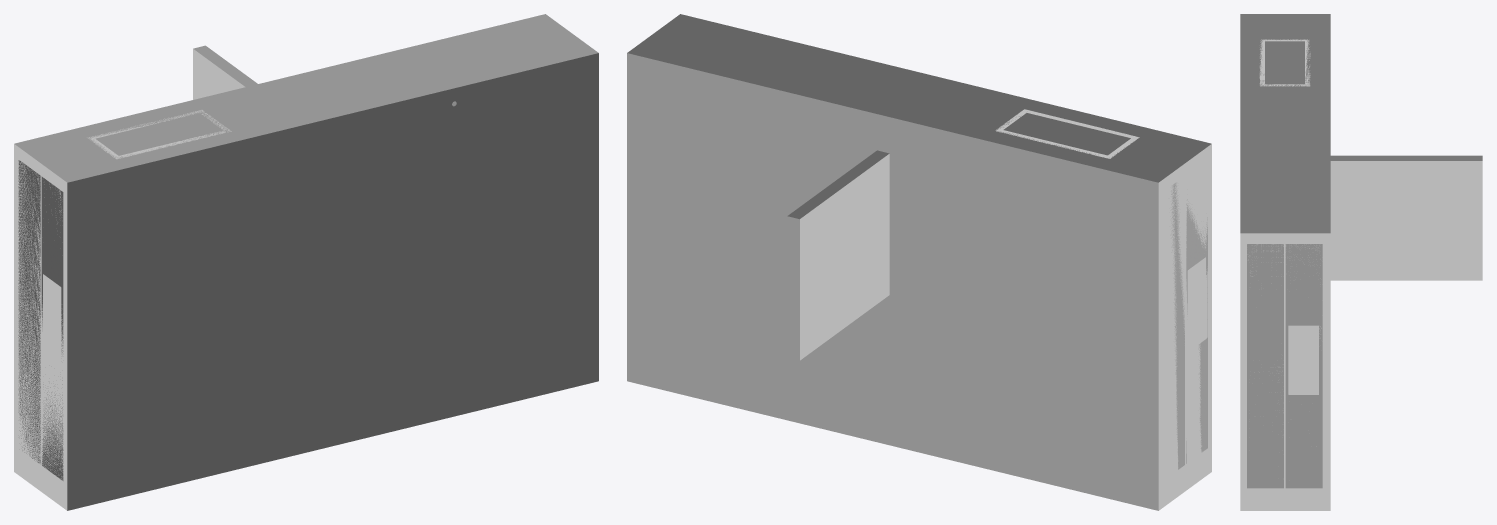
The picture shows the model from 3 angles, left to right: view 1: azimuth 30°, elevation 25°; view 2: azimuth 150°, elevation 25°; view 3: azimuth 270°, elevation 25°; orthographic projection. The views are drawn at different scales.
Visible parts, largest first — view 1: SM_Turnstile_01b_ConvexHulls, SM_Turnstile_01b; view 2: SM_Turnstile_01b_ConvexHulls, SM_Turnstile_01b; view 3: SM_Turnstile_01b_ConvexHulls, SM_Turnstile_01b.
Part boxes in pixels (left/top/right/bottom): SM_Turnstile_01b_ConvexHulls: left=14, top=14, right=598, bottom=510; SM_Turnstile_01b: left=18, top=101, right=456, bottom=480; SM_Turnstile_01b_ConvexHulls: left=627, top=14, right=1211, bottom=510; SM_Turnstile_01b: left=995, top=109, right=1207, bottom=469; SM_Turnstile_01b_ConvexHulls: left=1240, top=14, right=1482, bottom=510; SM_Turnstile_01b: left=1247, top=39, right=1322, bottom=488.
Bounding box in the file's own units: 182 × 85.02 × 107.
Materials: 3 (1 with a texture image).
